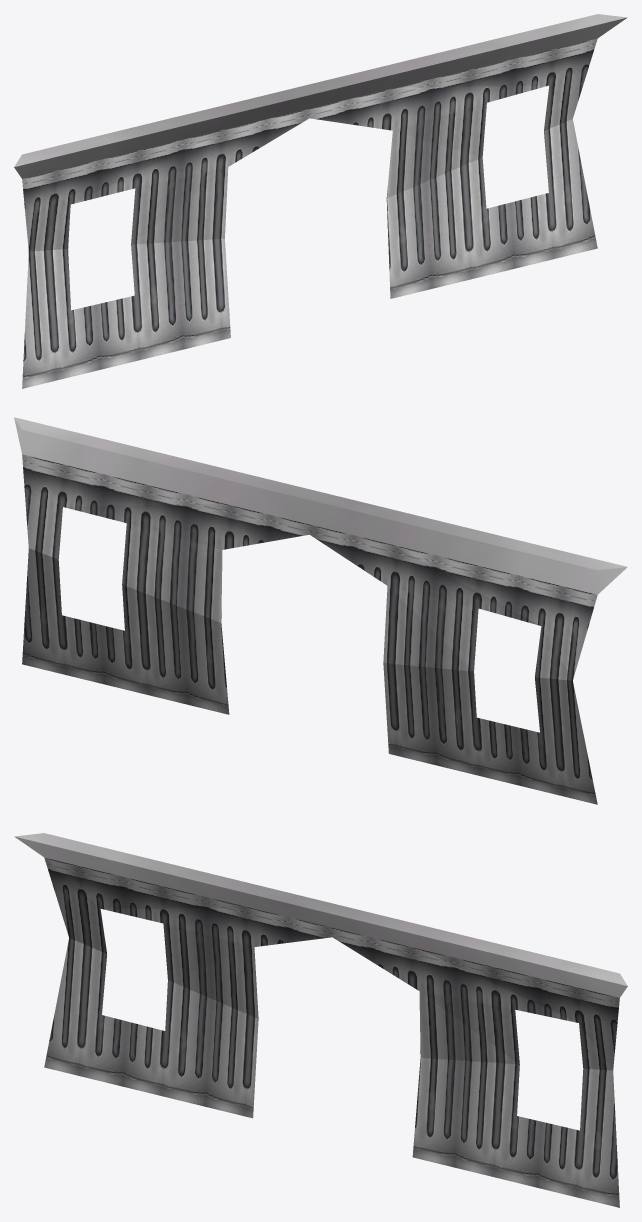
The model's file is W_A1_fof [Wellblech]_738.glb.
3 views of the same model, one above another, from view 1: azimuth 30°, elevation 25°; view 2: azimuth 150°, elevation 25°; view 3: azimuth 330°, elevation 25° (orthographic).
Parts seen in each view (by area): view 1: polySurfaceShape907, polySurfaceShape1057; view 2: polySurfaceShape907, polySurfaceShape1057; view 3: polySurfaceShape907, polySurfaceShape1057.
Part boxes in pixels (bbox=[...]): polySurfaceShape907: bbox=[22, 38, 597, 388]; polySurfaceShape1057: bbox=[14, 14, 627, 178]; polySurfaceShape907: bbox=[22, 454, 597, 804]; polySurfaceShape1057: bbox=[14, 417, 627, 594]; polySurfaceShape907: bbox=[44, 857, 619, 1207]; polySurfaceShape1057: bbox=[14, 833, 627, 997].
Bounding box in the file's own units: 1.07 × 0.3891 × 0.0607.
2 materials, 2 textured.
